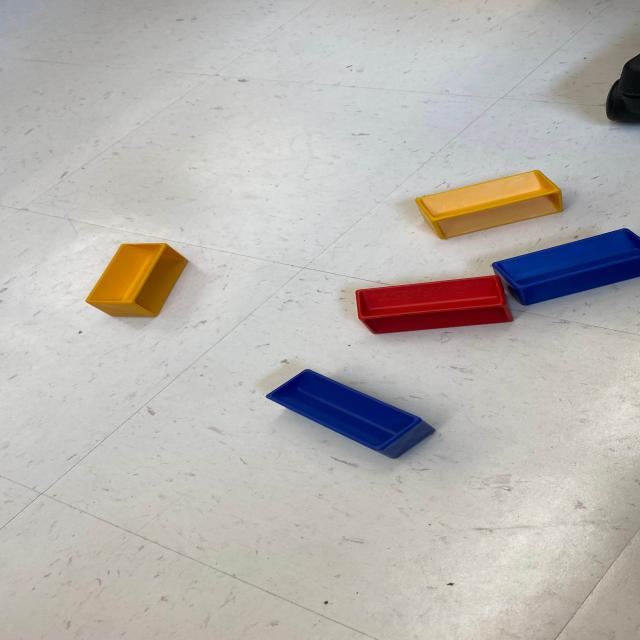blue-specimen: (261, 367, 440, 461), (491, 230, 640, 310)
red-specimen: (352, 274, 519, 335)
yellow-specimen: (408, 169, 568, 243), (78, 242, 193, 321)
